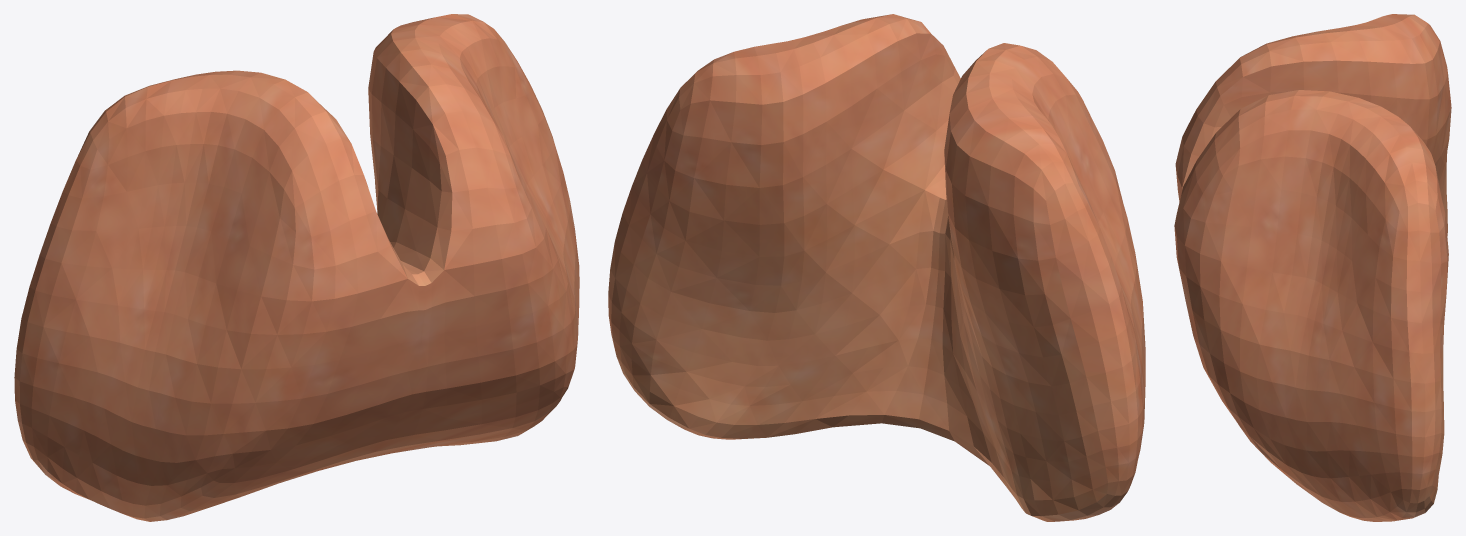
The model's file is thalamus_actual.obj.
The picture shows the model from 3 angles, left to right: view 1: azimuth 30°, elevation 25°; view 2: azimuth 150°, elevation 25°; view 3: azimuth 270°, elevation 25°; orthographic projection. The views are drawn at different scales.
Bounding box in the file's own units: 58.62 × 43.47 × 28.92.
Materials: 1 (1 with a texture image).
